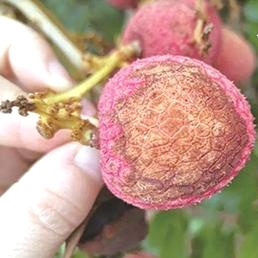Anthracnose: (122, 69, 248, 185)
